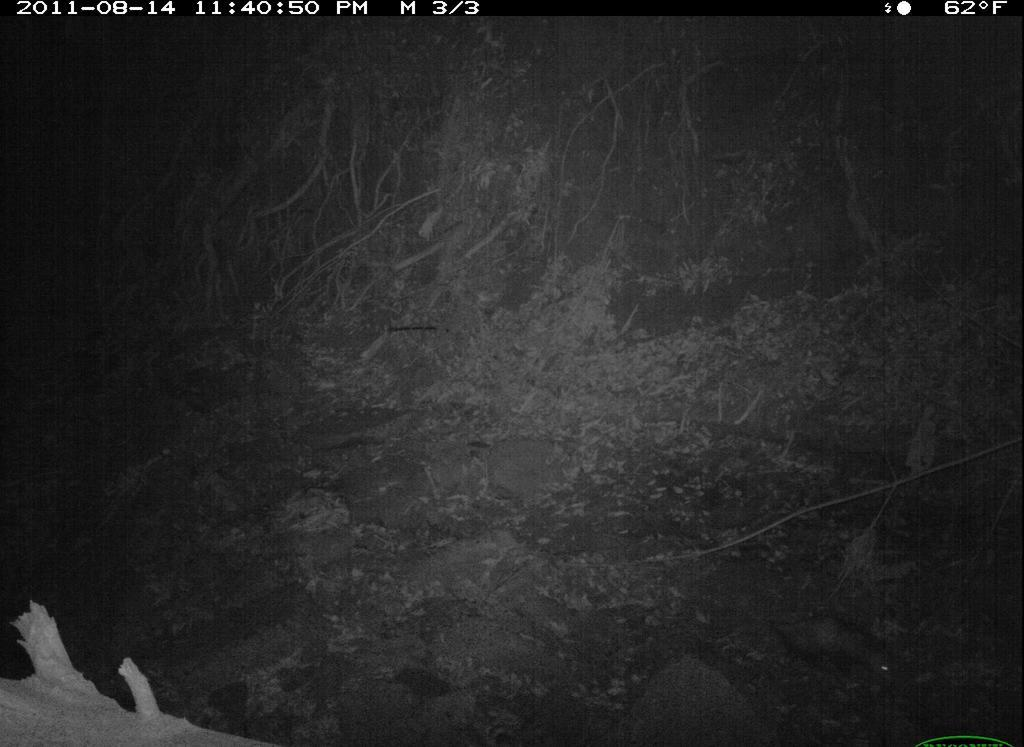opossum: (760, 598, 904, 688)
